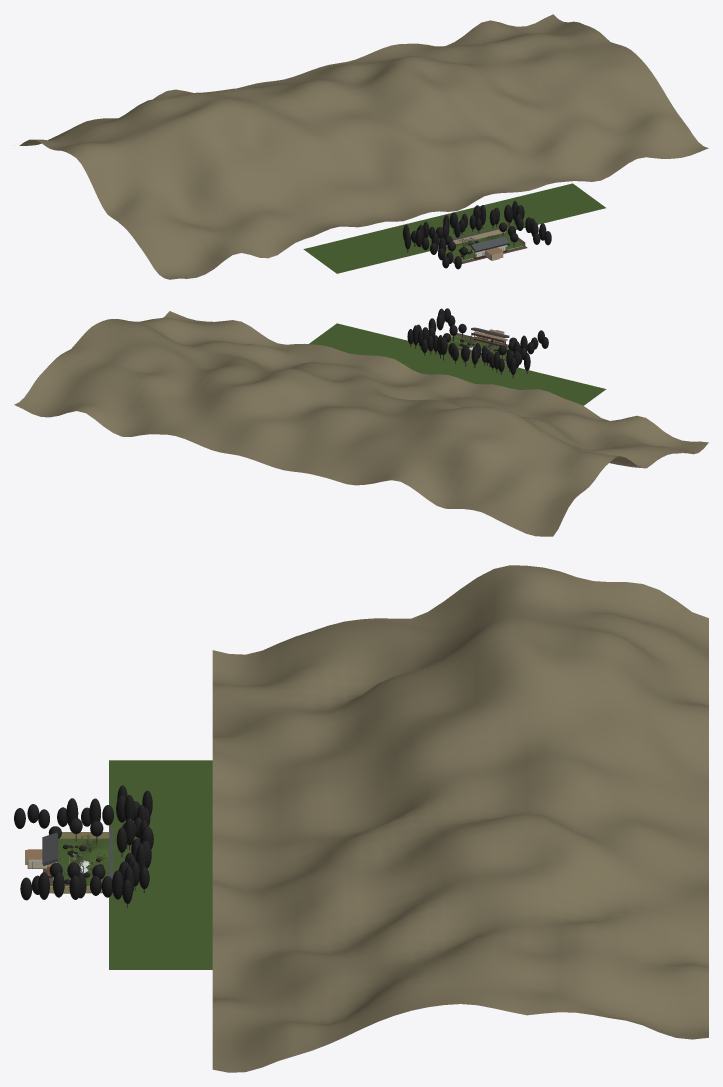
File: garden.glb
3 renders of one model, top to bottom at view 1: azimuth 30°, elevation 25°; view 2: azimuth 150°, elevation 25°; view 3: azimuth 270°, elevation 25°, orthographic. The views are drawn at different scales.
Parts seen in each view (by area): view 1: far_hills, moss, foliage_core, roof_tile; view 2: far_hills, moss, foliage_core; view 3: far_hills, moss, foliage_core.
Boxes of the visible parts, x1,y1,x2,y2 form: far_hills: (14, 14, 708, 279); moss: (303, 183, 605, 273); foliage_core: (403, 200, 551, 269); roof_tile: (452, 226, 509, 252); far_hills: (14, 311, 708, 536); moss: (309, 323, 606, 405); foliage_core: (407, 308, 548, 374); far_hills: (212, 565, 708, 1072); moss: (53, 760, 212, 969); foliage_core: (14, 785, 153, 903).
Size of the model in its own units: 240 by 32.49 by 168.
